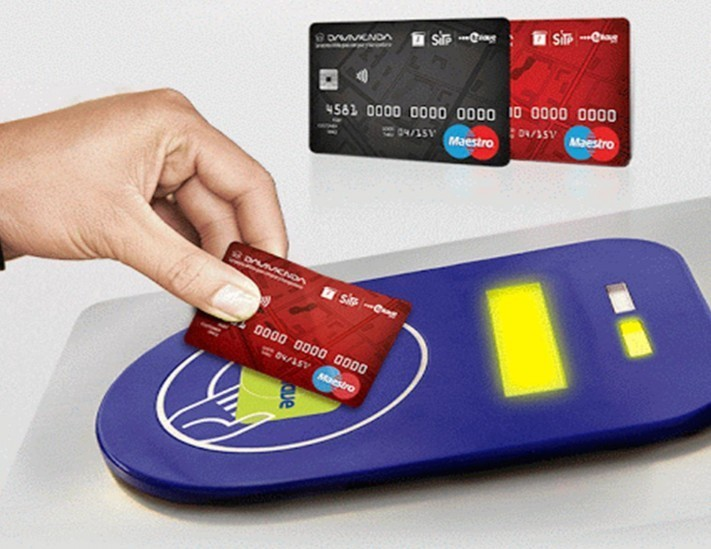tarjeta: (185, 242, 413, 409)
